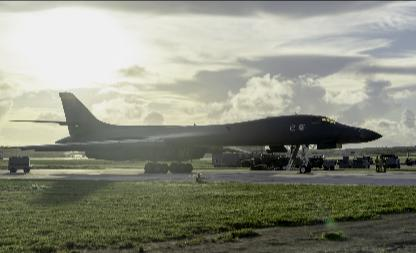AV8B: (1, 91, 384, 173)
